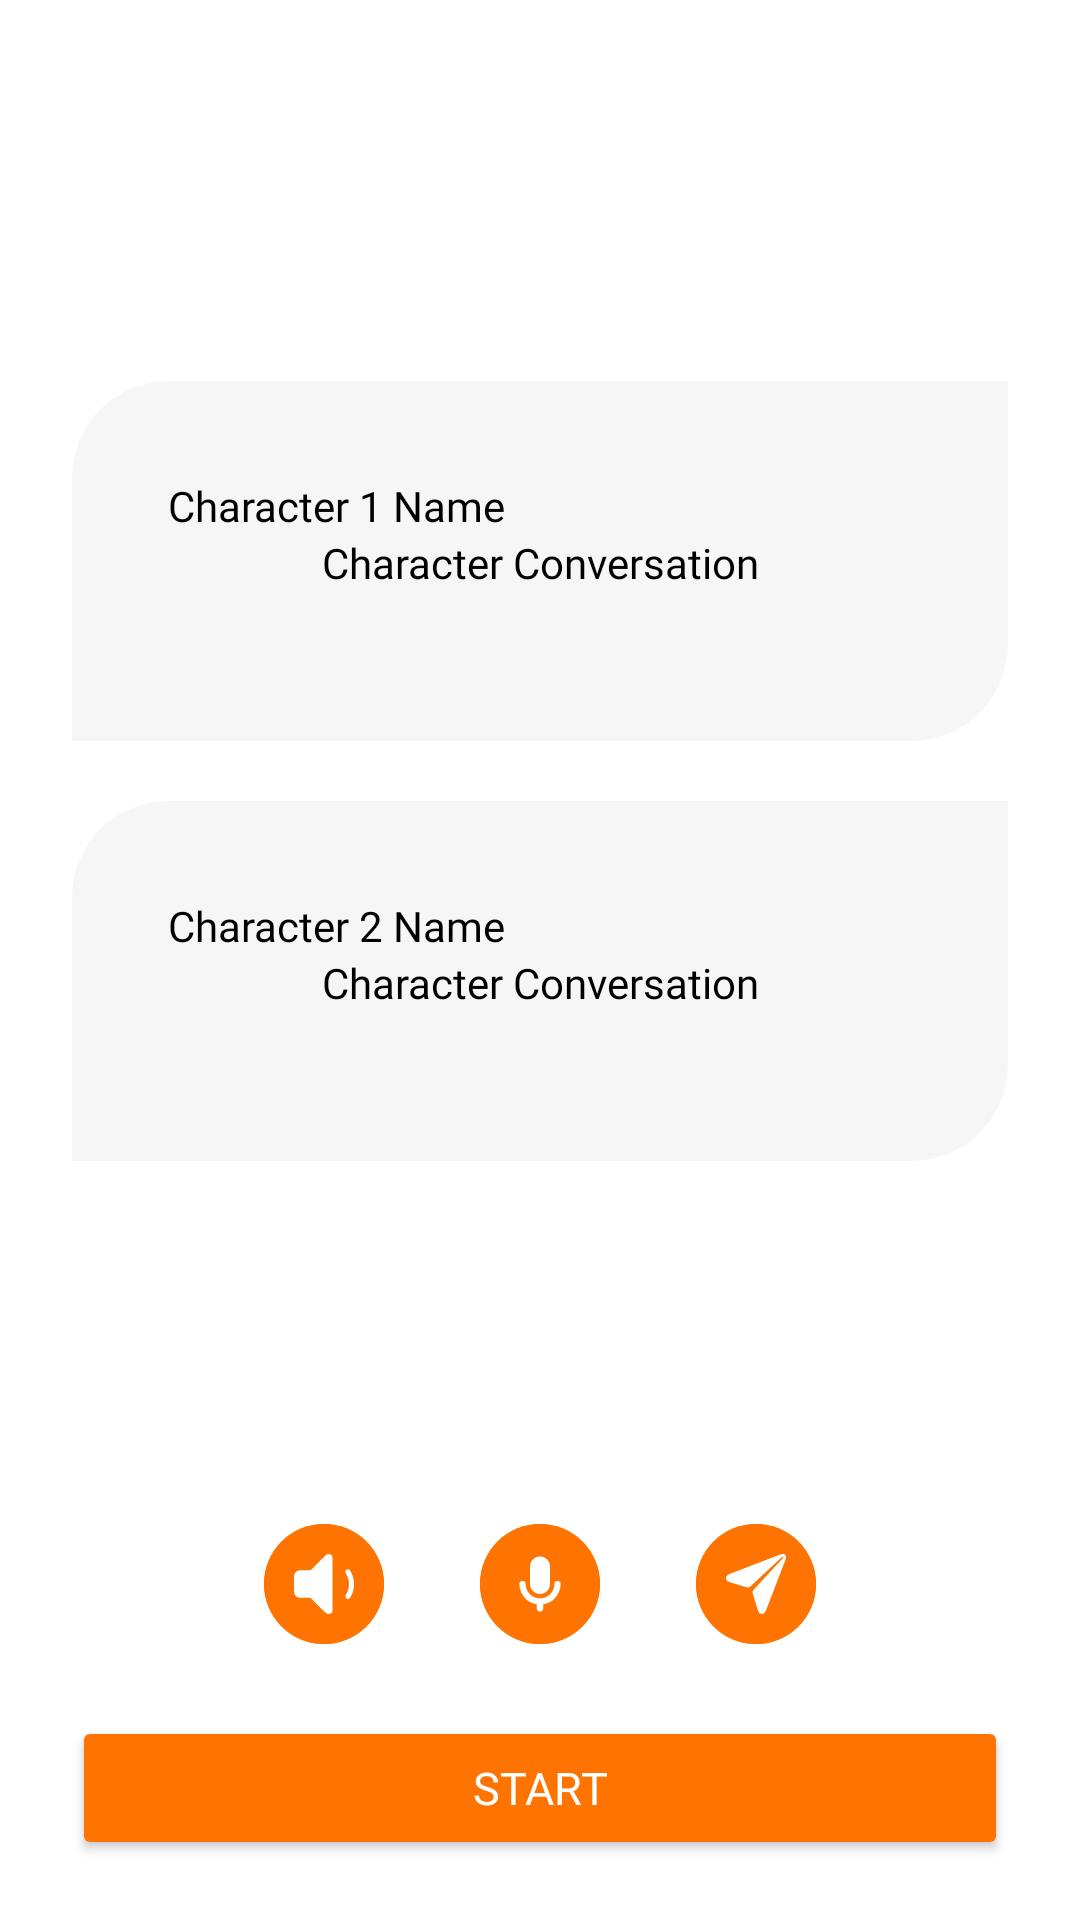

Locate icon controls on the screen. Image size 1080 × 1920, boxes as BBox(x1, y1, x2, y2).
audio on: BBox(264, 1524, 384, 1644)
mic on: BBox(480, 1524, 600, 1644)
send: BBox(696, 1524, 816, 1644)
